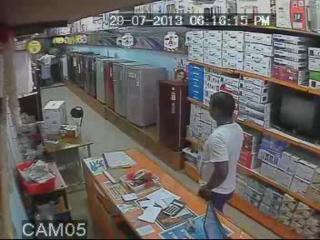shoplifting: (192, 92, 244, 240)
